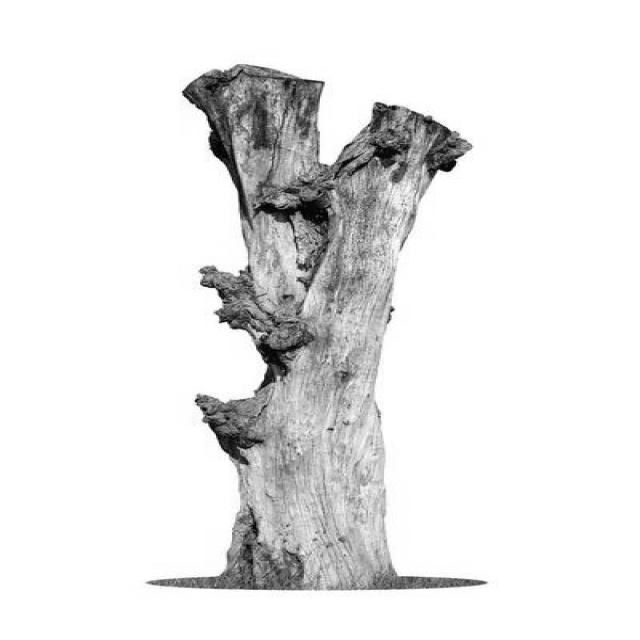Tree: (184, 65, 472, 590)
